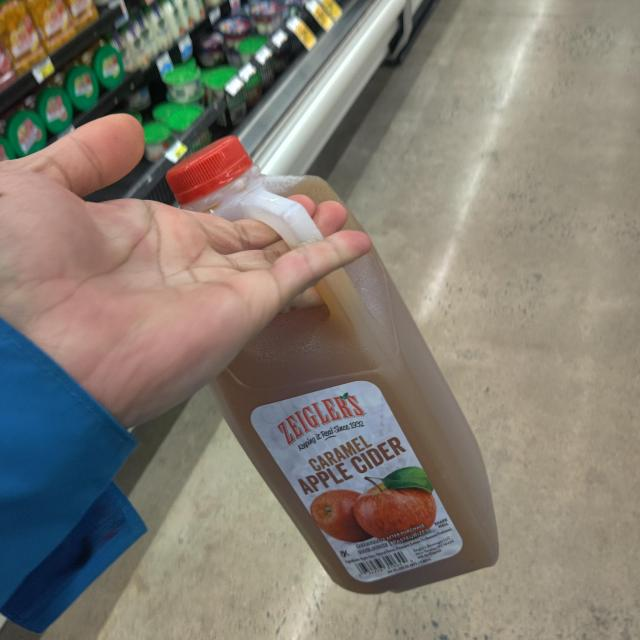Juice: (171, 137, 504, 595)
